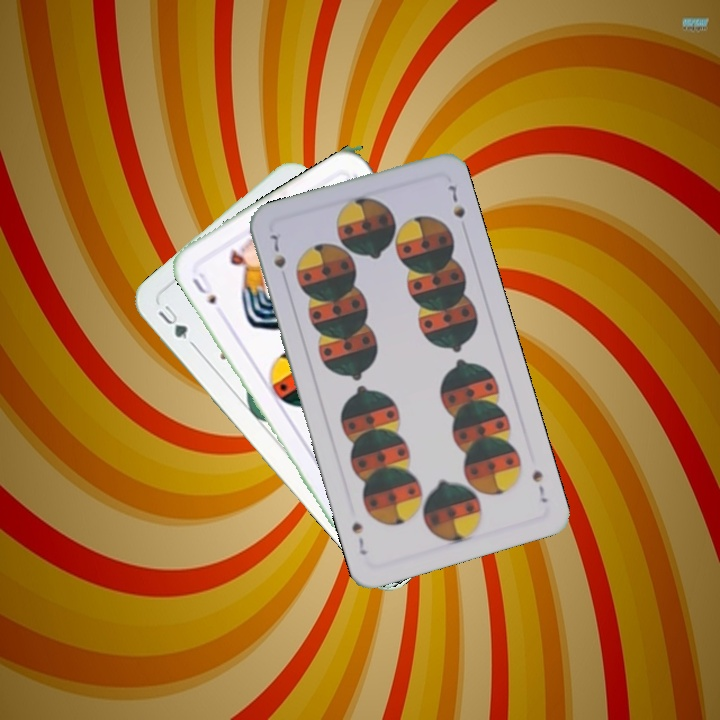GU: (154, 300, 190, 342)
S7: (266, 230, 289, 271), (528, 466, 551, 506)
SU: (188, 268, 219, 308)
